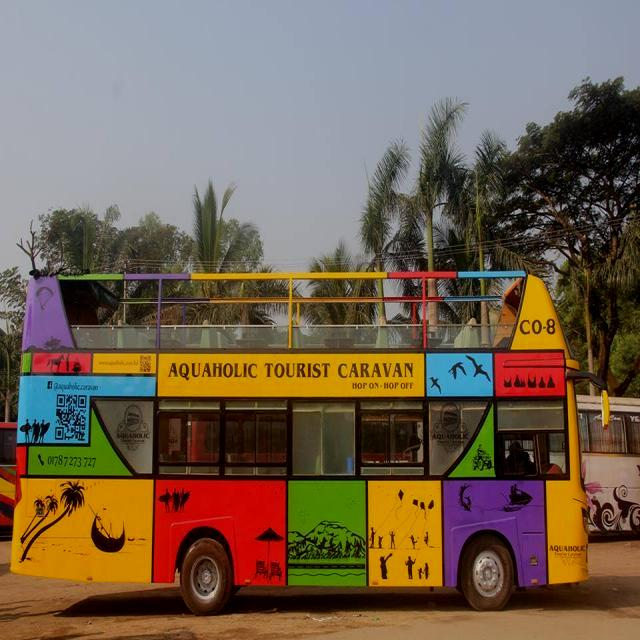bus: (14, 272, 611, 620)
